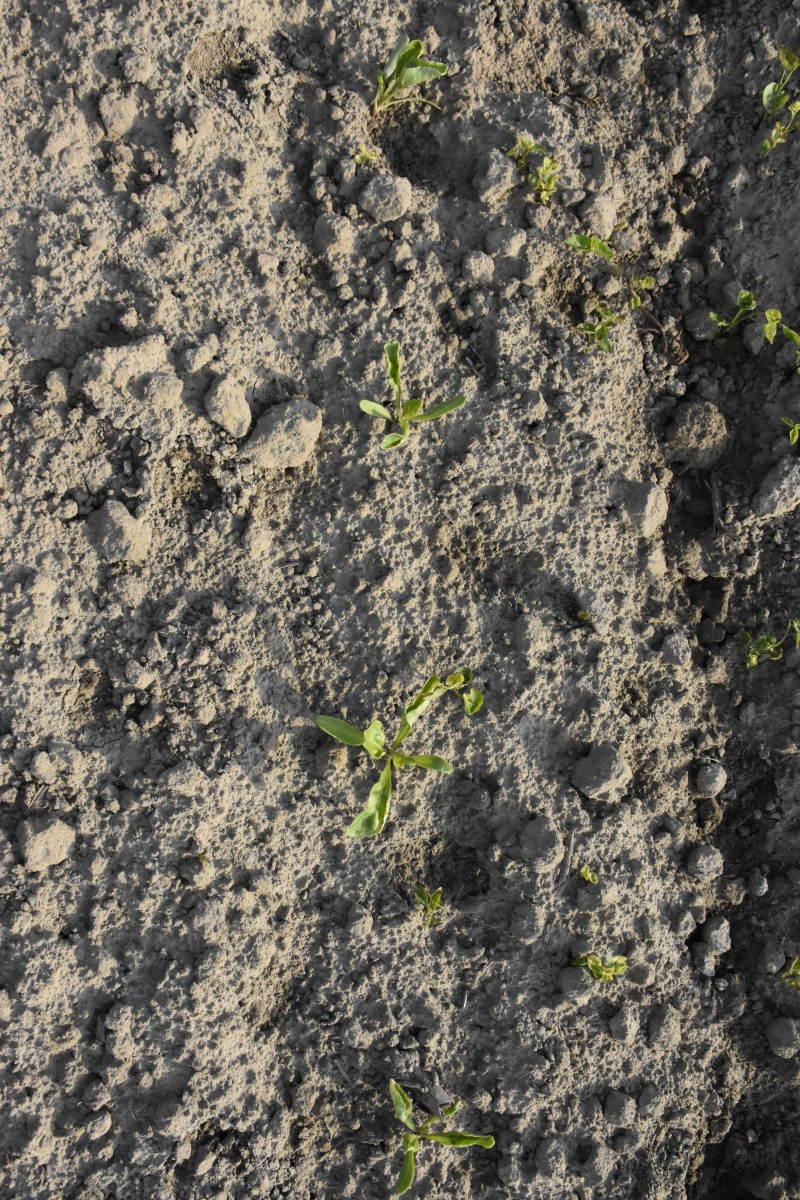field bindweed: (551, 234, 664, 354), (510, 125, 566, 205), (761, 36, 800, 143)
sugar beet: (321, 669, 478, 825), (374, 1079, 500, 1199), (356, 338, 470, 461), (360, 35, 457, 124)
